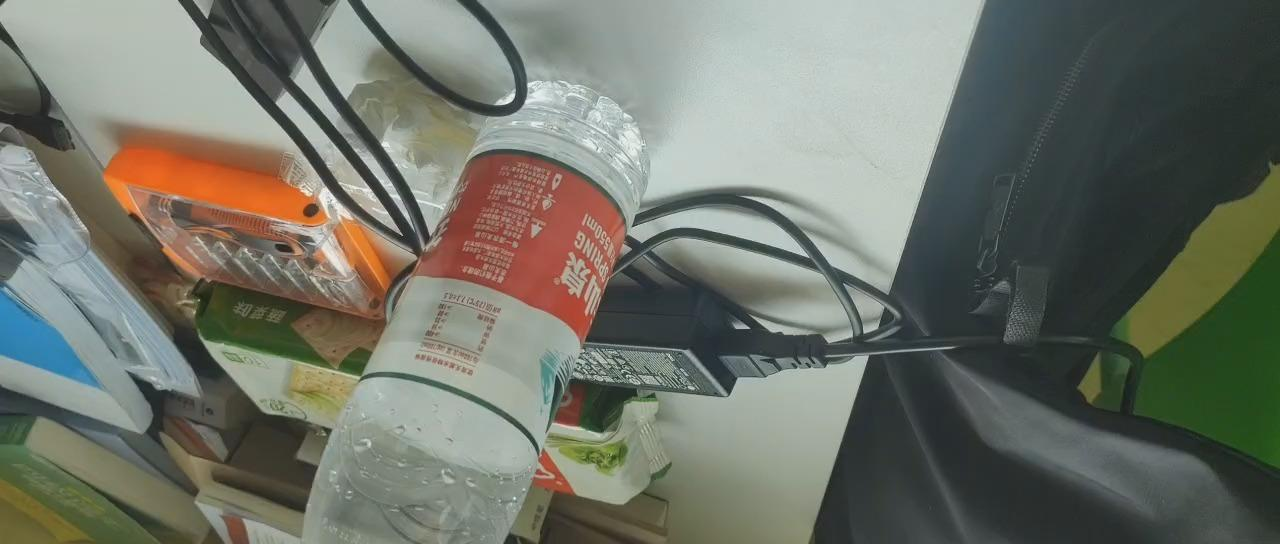BIODEGRADABLE: (290, 79, 655, 544)
